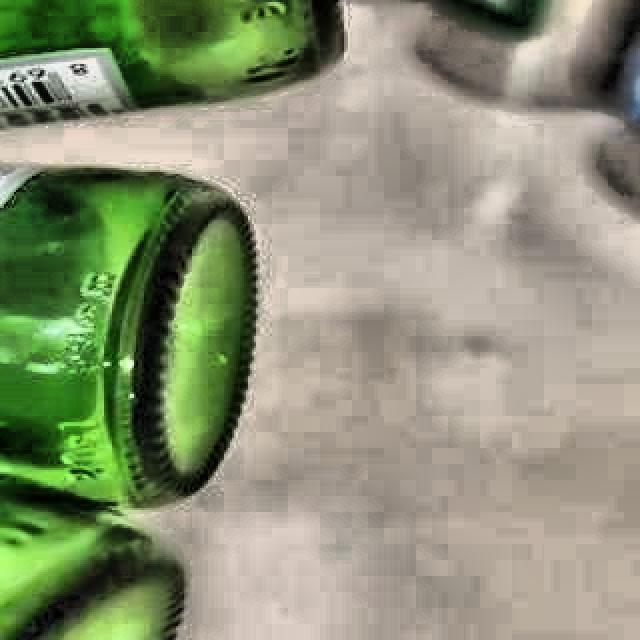glass: (0, 167, 253, 640)
